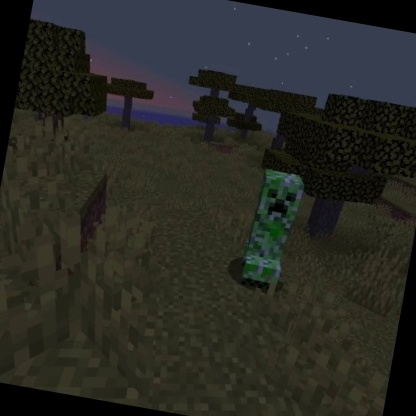creeper: (232, 162, 310, 300)
